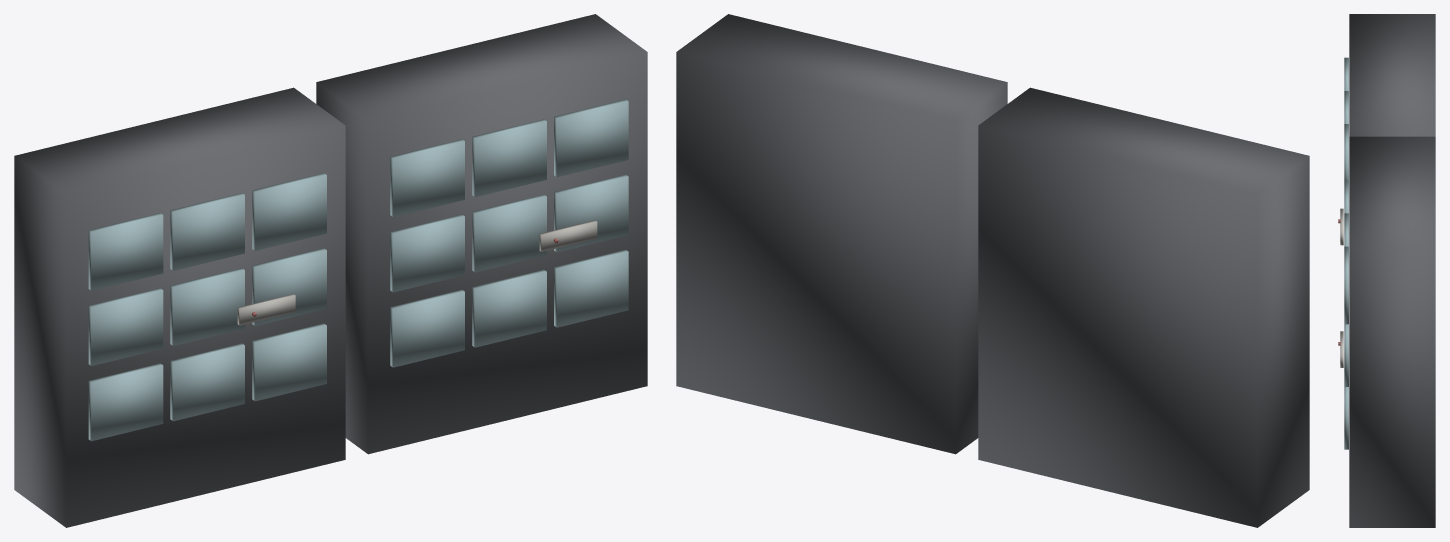
Rendered from security_monitor_bank__cluster.glb.
3 renders of one model, left to right at view 1: azimuth 30°, elevation 25°; view 2: azimuth 150°, elevation 25°; view 3: azimuth 270°, elevation 25°, orthographic. The views are drawn at different scales.
Visible parts, largest first — view 1: world; view 2: world; view 3: world.
Part boxes in pixels (bbox=[...]): world: bbox=[14, 14, 647, 527]; world: bbox=[676, 14, 1309, 527]; world: bbox=[1338, 14, 1435, 527].
Bounding box in the file's own units: 2.91 × 1.6 × 0.5085.
